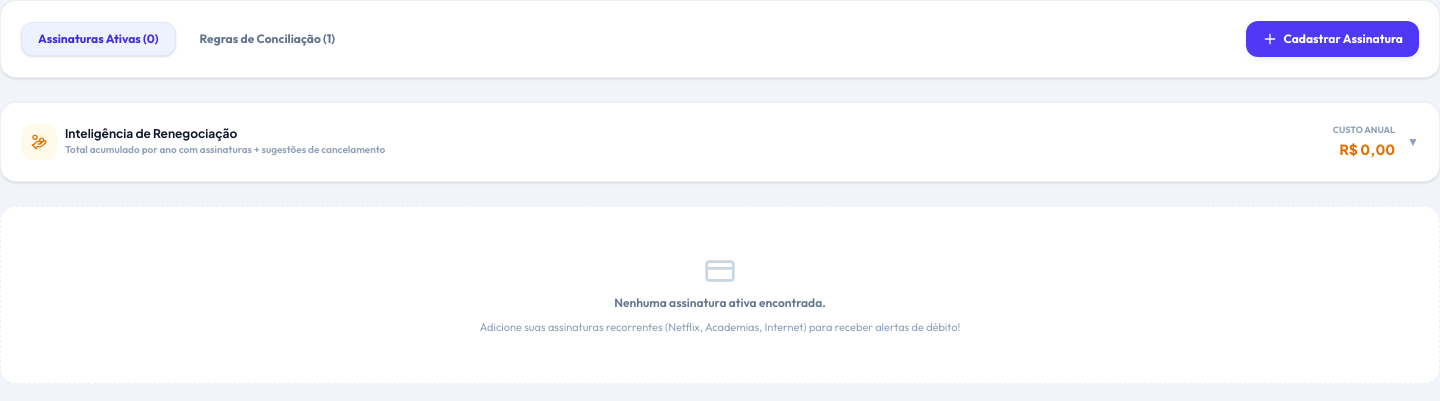
Test: SubscriptionsManager › lista as regras de automação
What coordinates should you click on to do the following:
click the button "Regras de Conciliação (1)"
I would click on:
 (267, 39)
Its box is x1=184 y1=23 x2=351 y2=55.
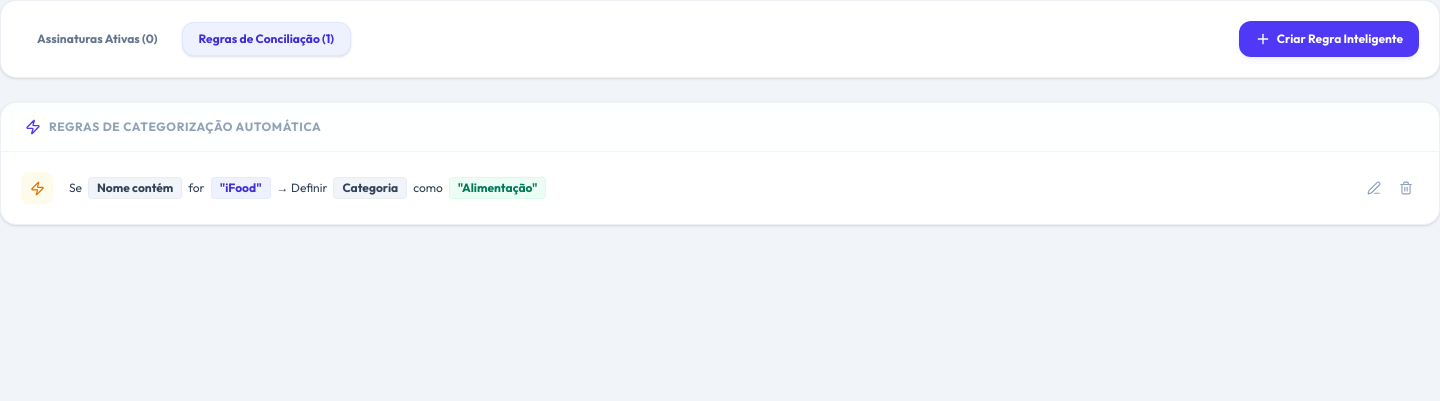
Check: the text "\"iFood\"" is shown, box x1=211 y1=177 x2=271 y2=199
